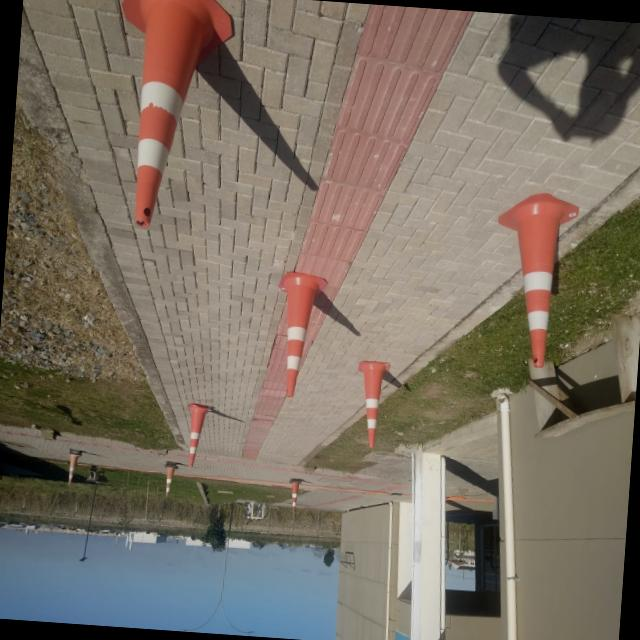cone: (100, 0, 240, 250), (480, 184, 588, 379), (265, 267, 332, 409), (348, 357, 394, 451), (176, 399, 216, 471), (282, 474, 306, 511), (61, 447, 82, 484), (160, 459, 178, 497)
